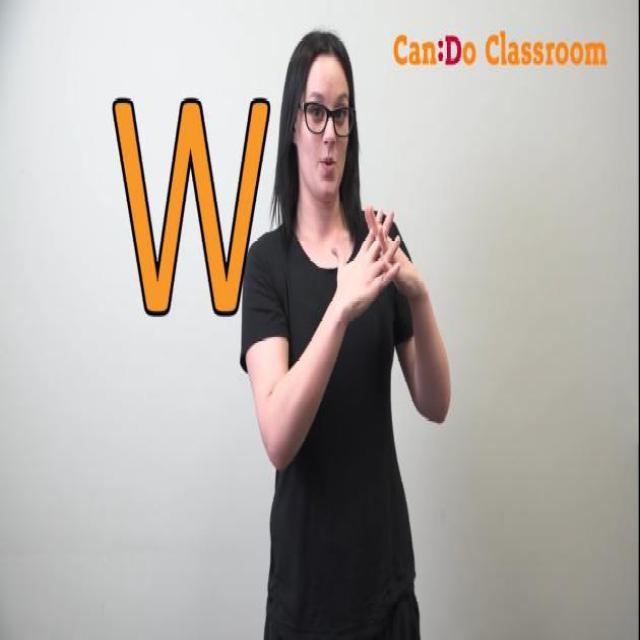W: (350, 200, 414, 320)
